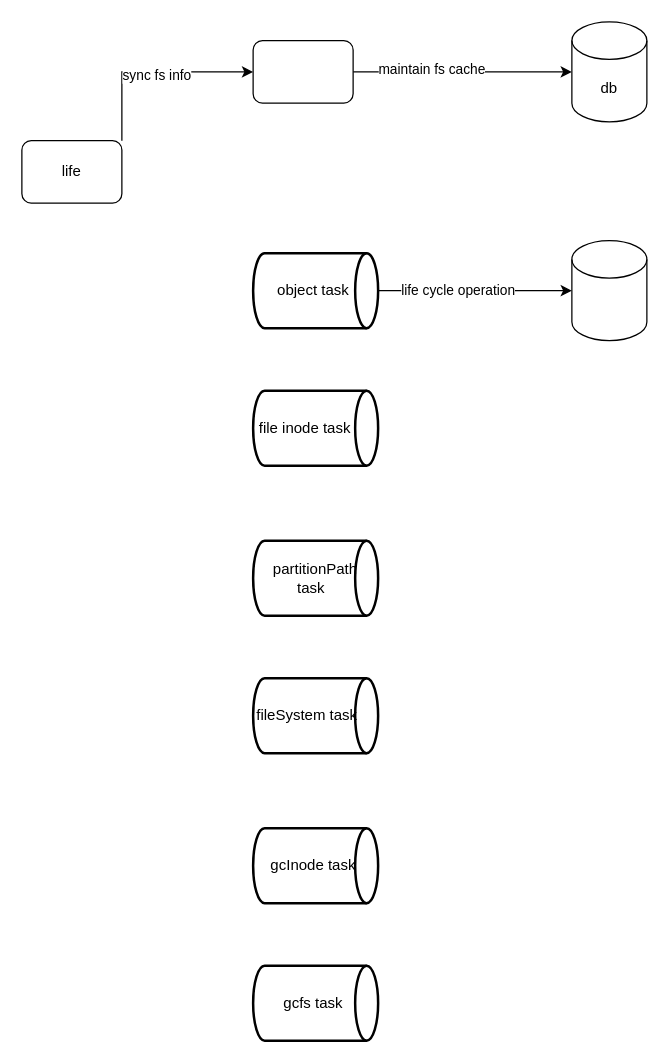
Image size: 669x1064. Some labels were removed from this diagram. The centre of each missing label's shape, as x and y in pixels:
"cos" goes at (609,290).
"root" goes at (302,71).
